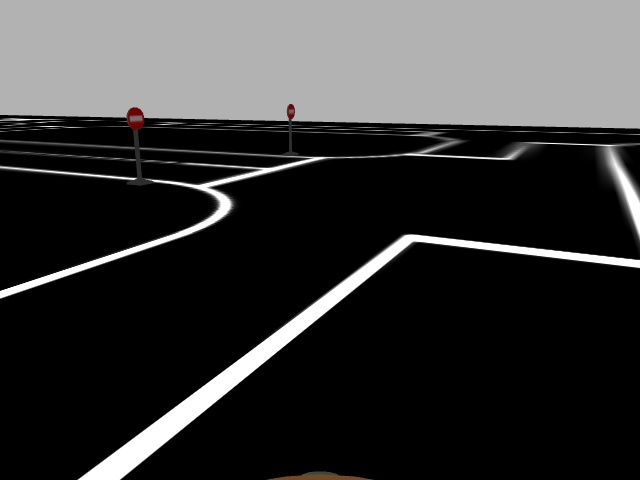prohibited: (127, 106, 145, 132), (286, 102, 296, 121)
